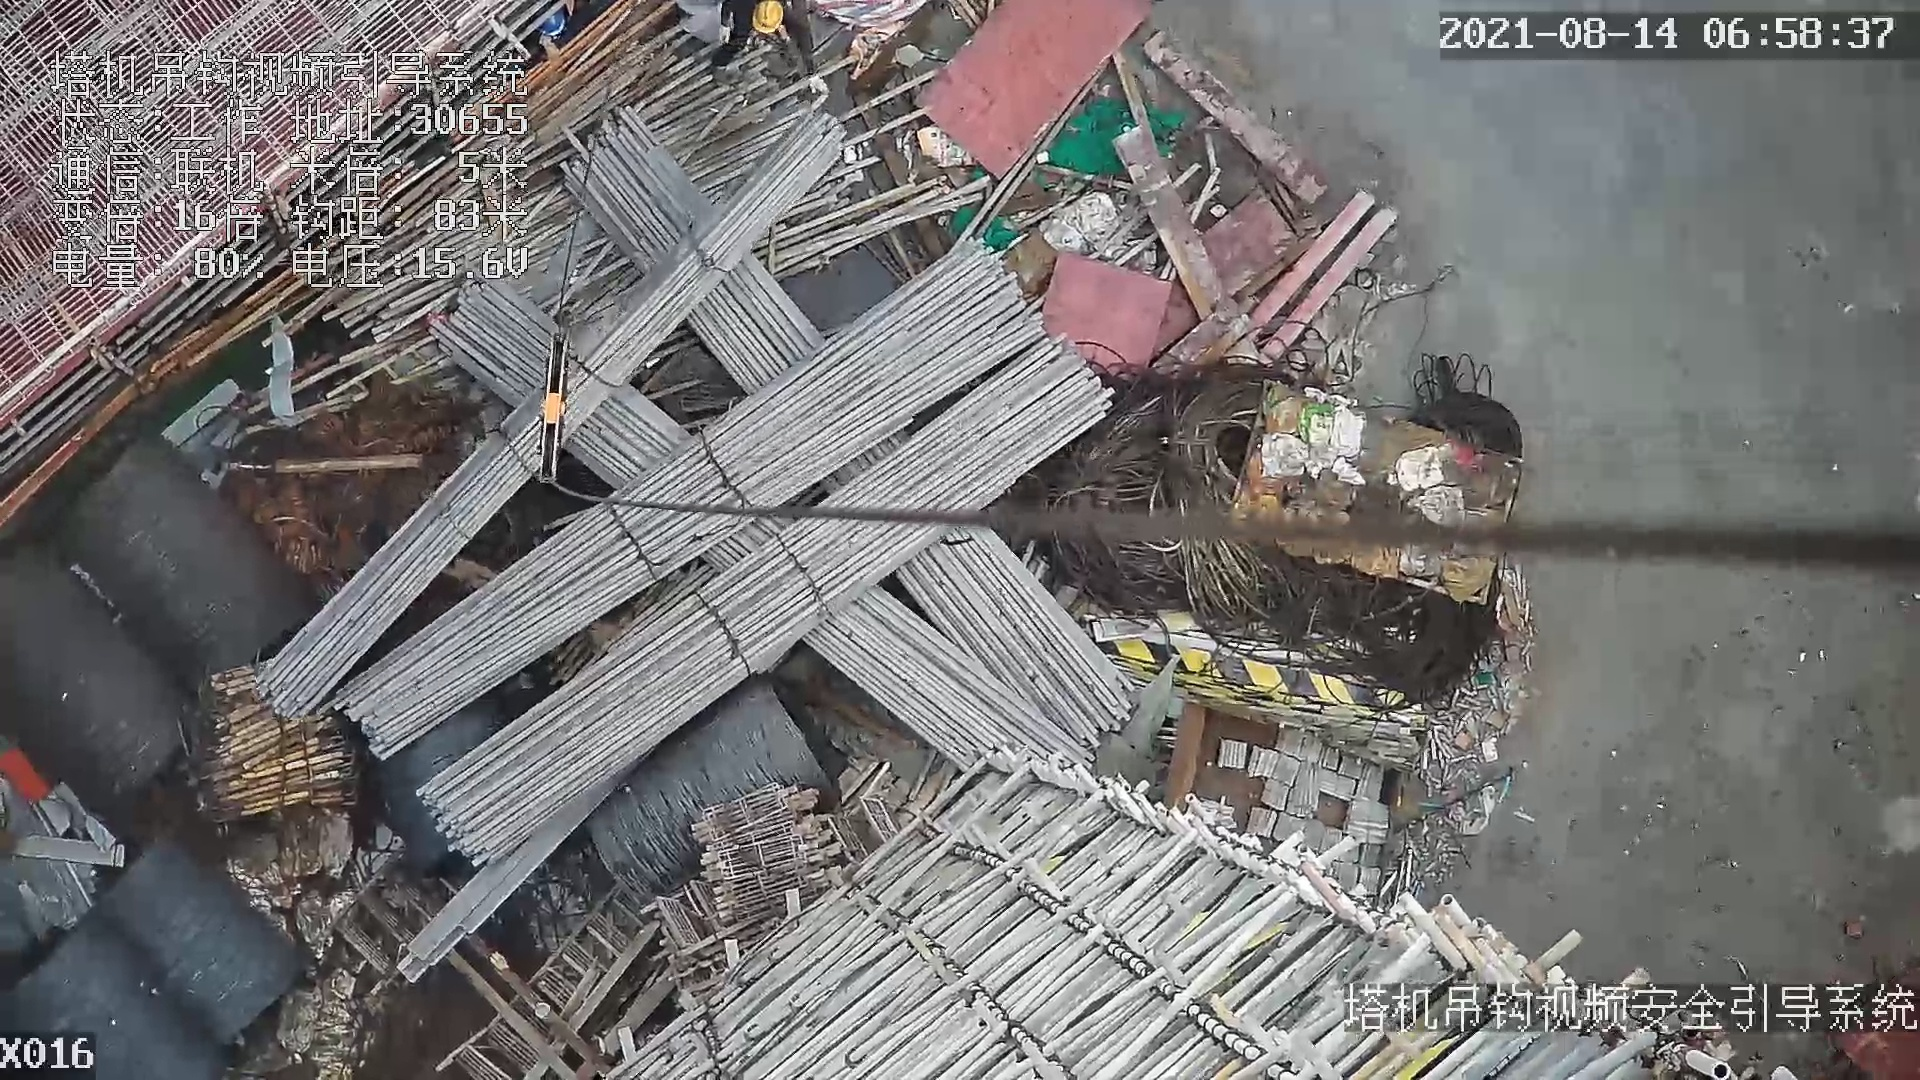helmet: (750, 1, 782, 33)
hook: (524, 333, 567, 483)
person: (695, 1, 837, 103)
rebar: (329, 239, 1043, 760), (420, 343, 1109, 868), (252, 114, 842, 724), (802, 585, 1093, 772), (893, 520, 1135, 734)
scaffold: (212, 664, 359, 818)
